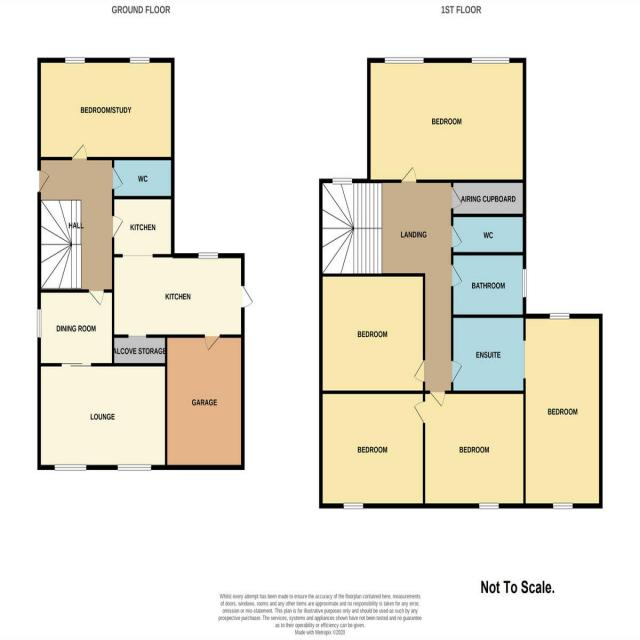DOOR: (239, 283, 256, 311), (411, 356, 426, 384), (36, 168, 52, 194), (203, 332, 221, 355), (450, 223, 465, 250), (450, 262, 465, 289), (450, 357, 464, 385), (411, 399, 426, 425), (87, 288, 106, 308), (399, 164, 419, 183), (111, 165, 125, 191), (450, 185, 464, 211), (428, 390, 447, 409), (71, 142, 88, 162), (111, 214, 124, 240)
ROOM: (451, 314, 603, 509), (111, 195, 255, 353), (367, 58, 526, 184), (36, 57, 176, 162), (36, 362, 168, 472), (319, 274, 426, 393), (319, 390, 425, 510), (422, 390, 526, 509), (36, 287, 116, 368)
WINDOW: (469, 54, 511, 65), (383, 56, 426, 66), (53, 463, 87, 473), (117, 463, 152, 472), (521, 266, 529, 299), (197, 250, 220, 261), (329, 176, 354, 186), (550, 501, 574, 511), (36, 308, 43, 340), (342, 501, 364, 511), (64, 56, 86, 65), (547, 312, 571, 320), (476, 502, 500, 510), (129, 56, 150, 65)
